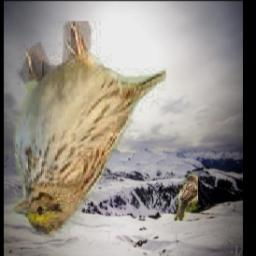Sparrow: (6, 22, 166, 242), (174, 175, 198, 222)
